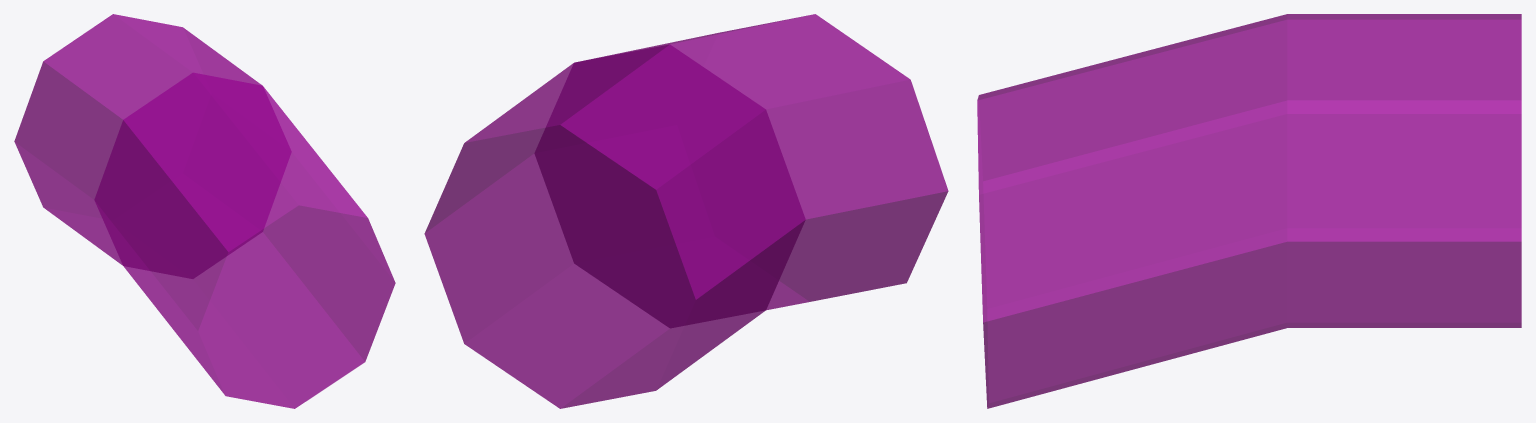
Rendered from SM_Prop_Pipe_Damaged_02_Collision.fbx.
3 views of the same model, side by side, from view 1: azimuth 30°, elevation 25°; view 2: azimuth 150°, elevation 25°; view 3: azimuth 270°, elevation 25° (orthographic). The views are drawn at different scales.
Parts seen in each view (by area): view 1: SM_Prop_Pipe_Damaged_02_Collision; view 2: SM_Prop_Pipe_Damaged_02_Collision; view 3: SM_Prop_Pipe_Damaged_02_Collision.
Boxes of the visible parts, x1,y1,x2,y2 form: SM_Prop_Pipe_Damaged_02_Collision: [14, 14, 395, 408]; SM_Prop_Pipe_Damaged_02_Collision: [424, 14, 948, 408]; SM_Prop_Pipe_Damaged_02_Collision: [977, 14, 1521, 408].
Bounding box in the file's own units: 67.64 × 85.7 × 110.
